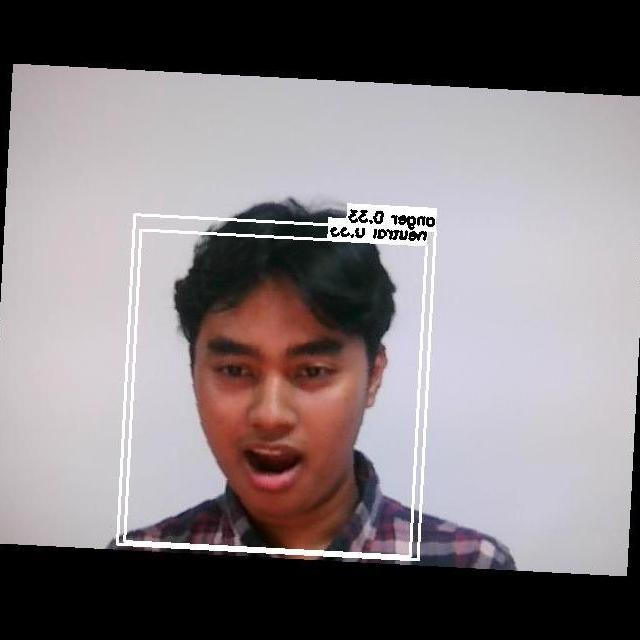Surprised: (182, 306, 375, 518)
